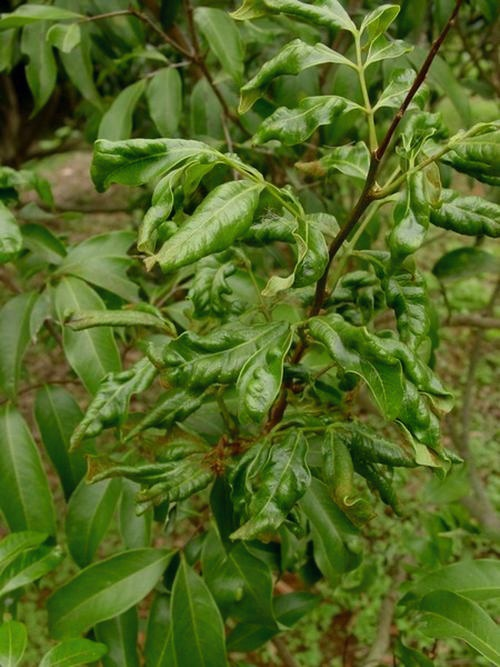Gall_Mite: (290, 256, 419, 369), (76, 308, 217, 411), (231, 440, 351, 527)
